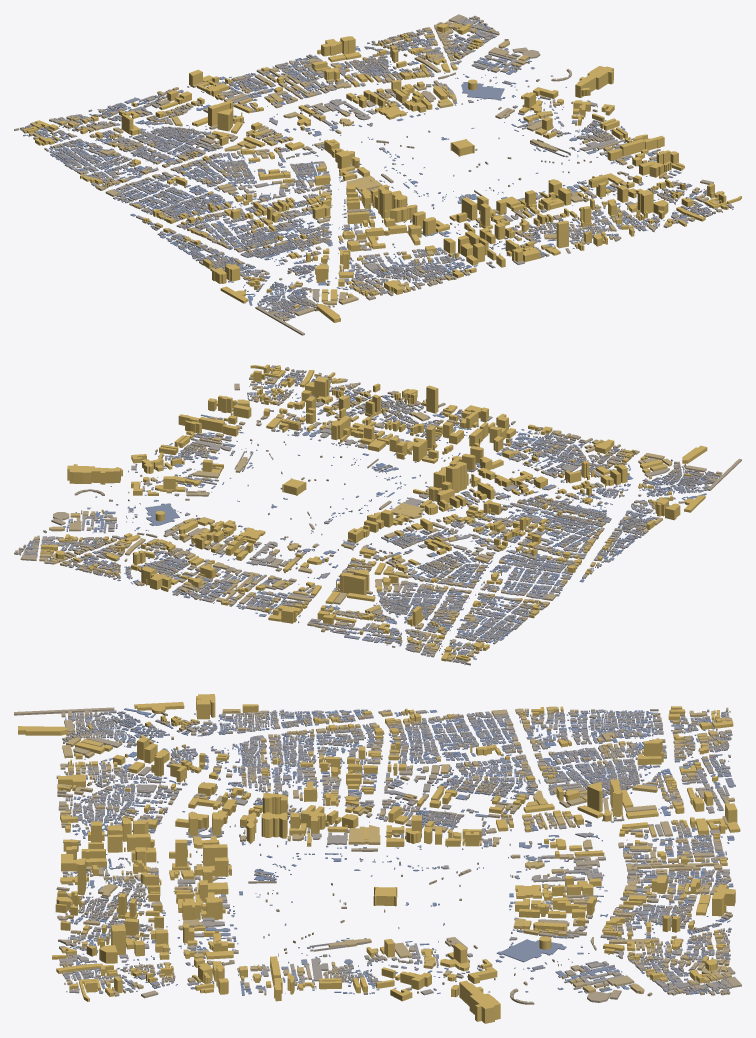
The model's file is buildings.glb.
The picture shows the model from 3 angles, top to bottom: view 1: azimuth 30°, elevation 25°; view 2: azimuth 150°, elevation 25°; view 3: azimuth 270°, elevation 25°; orthographic projection. The views are drawn at different scales.
Parts seen in each view (by area): view 1: buildings; view 2: buildings; view 3: buildings.
Boxes of the visible parts, x1,y1,x2,y2 form: buildings: (14,14,741,335); buildings: (14,364,741,665); buildings: (14,694,741,1023).
Size of the model in its own units: 2918 by 149 by 2834.
